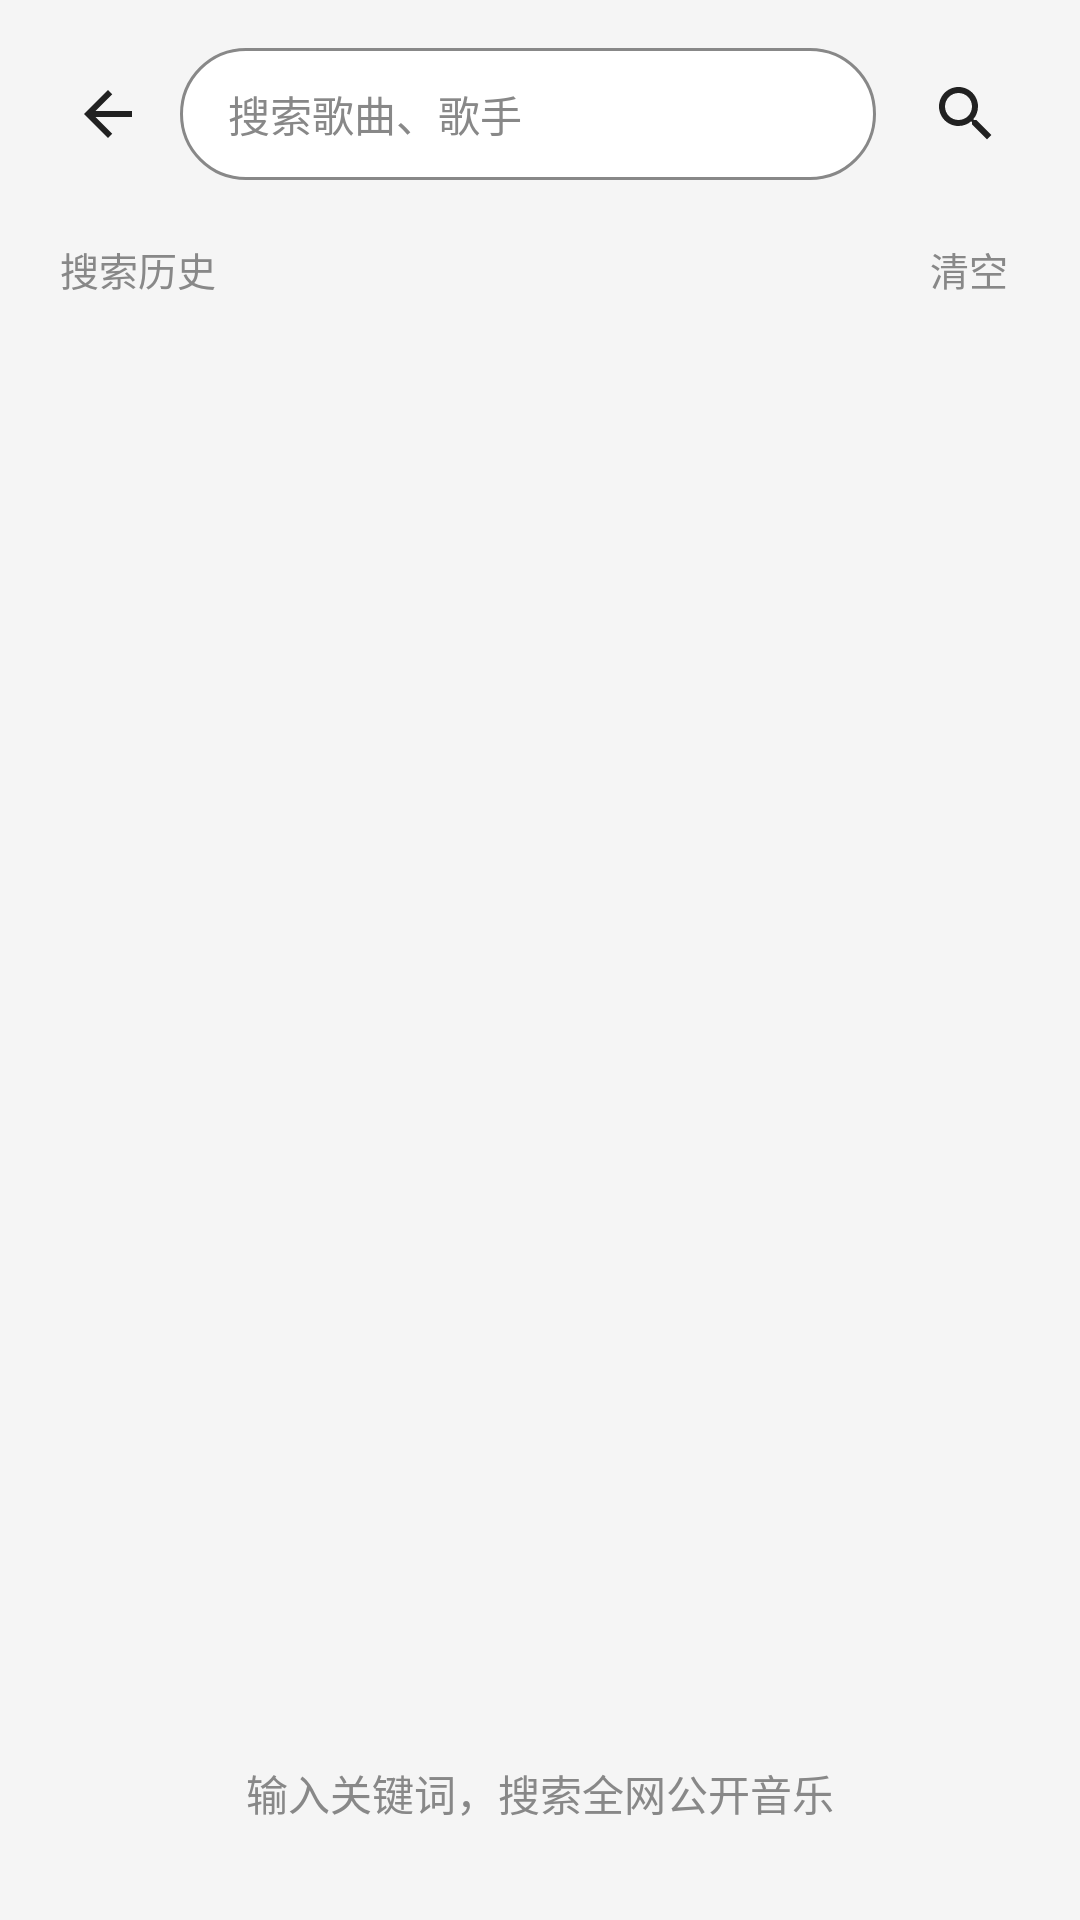

Icons on this 1080px×1920px Android screen, each with the point to tap as [x,y]:
返回: [108,114]
